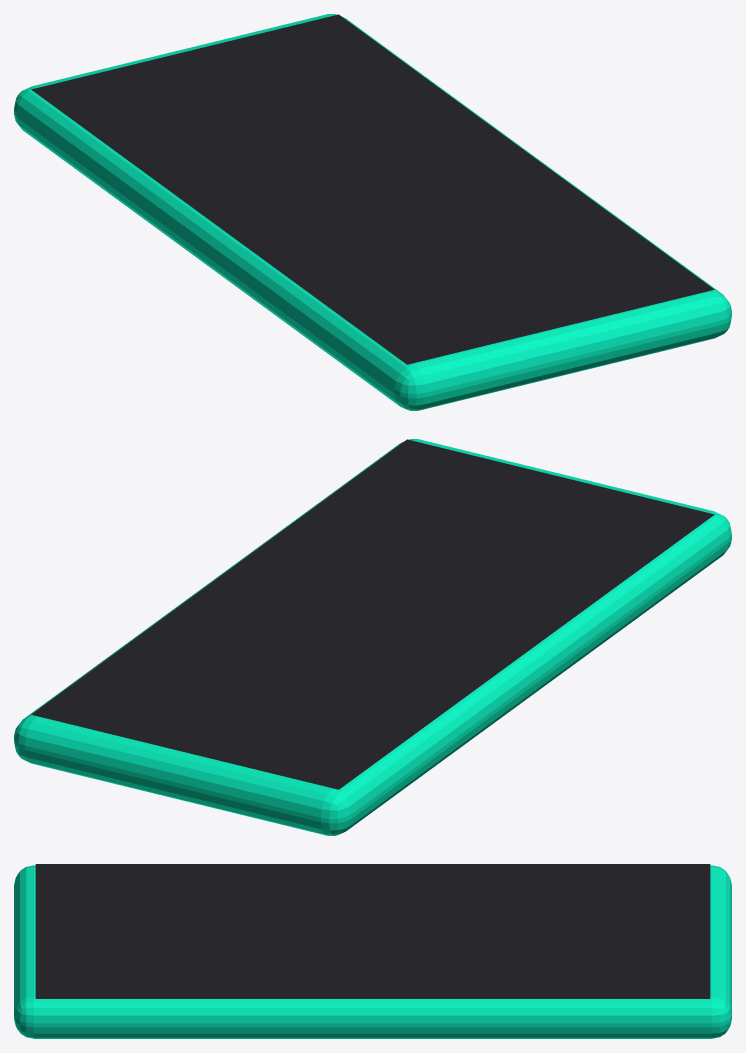
The model's file is Phone_752.glb.
The picture shows the model from 3 angles, top to bottom: view 1: azimuth 30°, elevation 25°; view 2: azimuth 150°, elevation 25°; view 3: azimuth 270°, elevation 25°; orthographic projection. The views are drawn at different scales.
Visible parts, largest first — view 1: Phone_Screen, Phone_Body; view 2: Phone_Screen, Phone_Body; view 3: Phone_Screen, Phone_Body.
Part boxes in pixels (x1,y1,x2,y2): Phone_Screen: (31,14,714,364); Phone_Body: (14,14,731,410); Phone_Screen: (31,439,714,789); Phone_Body: (14,439,731,835); Phone_Screen: (35,864,710,998); Phone_Body: (14,865,731,1038).
Bounding box in the file's own units: 0.0757 × 0.0098 × 0.1568.
